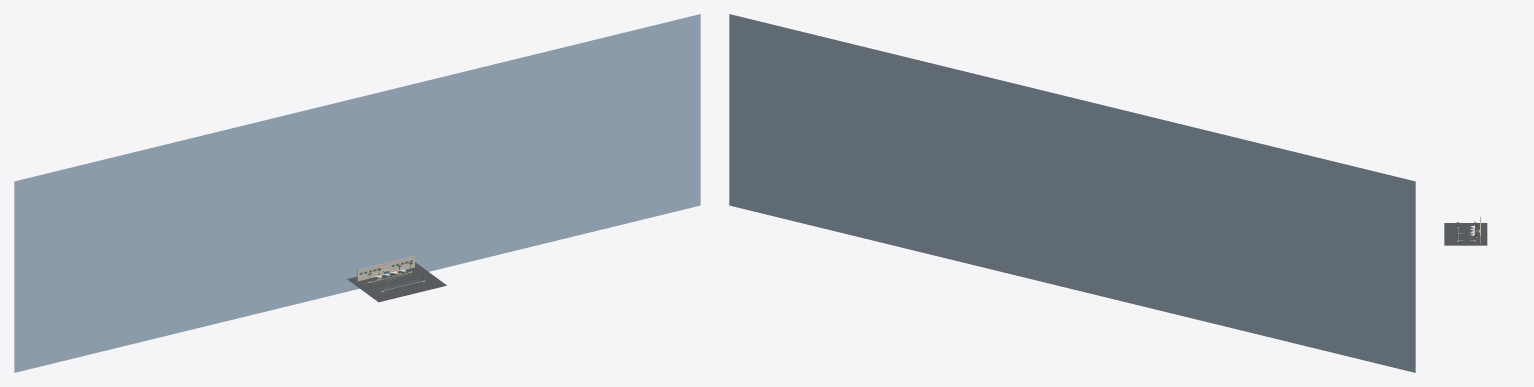
Rendered from parkingLot.glb.
3 views of the same model, side by side, from view 1: azimuth 30°, elevation 25°; view 2: azimuth 150°, elevation 25°; view 3: azimuth 270°, elevation 25° (orthographic). The views are drawn at different scales.
Visible parts, largest first — view 1: sky, asphalt, mallWall; view 2: sky; view 3: asphalt.
Part boxes in pixels (<box>): sky: <box>14,14,700,372</box>; asphalt: <box>347,262,446,302</box>; mallWall: <box>357,257,414,281</box>; sky: <box>729,14,1415,372</box>; asphalt: <box>1444,223,1487,245</box>.
Size of the model in its own units: 600 by 160 by 84.
